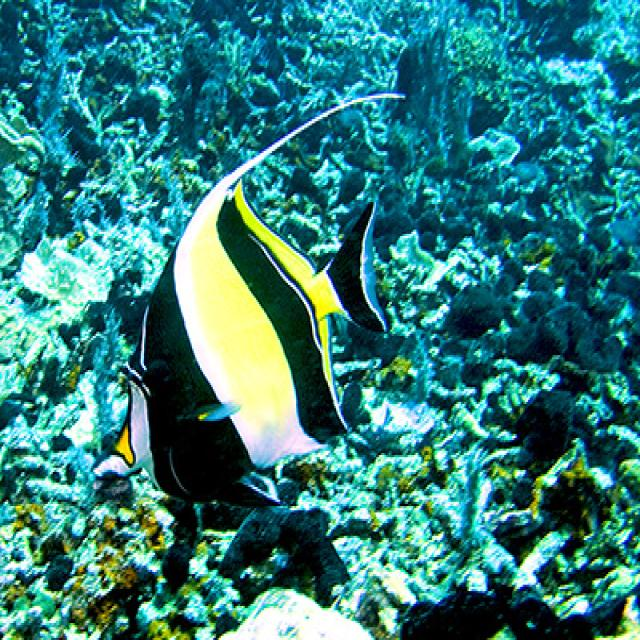MorishIdol: (88, 87, 406, 515)
